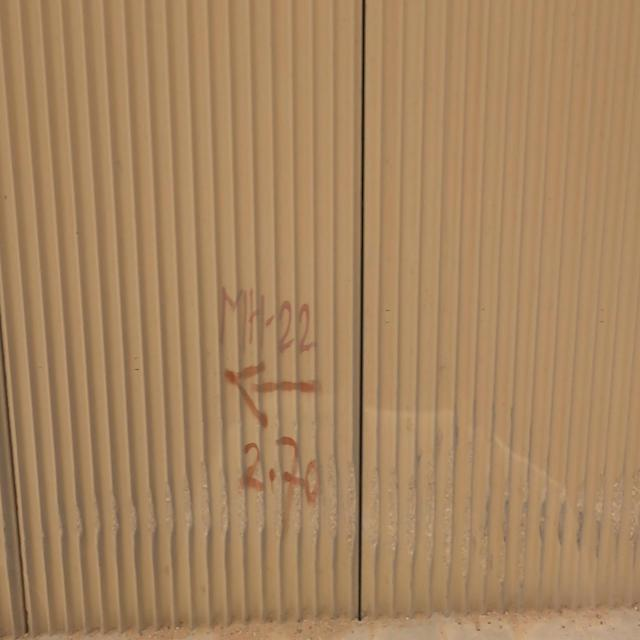debris: (133, 147, 404, 636)
